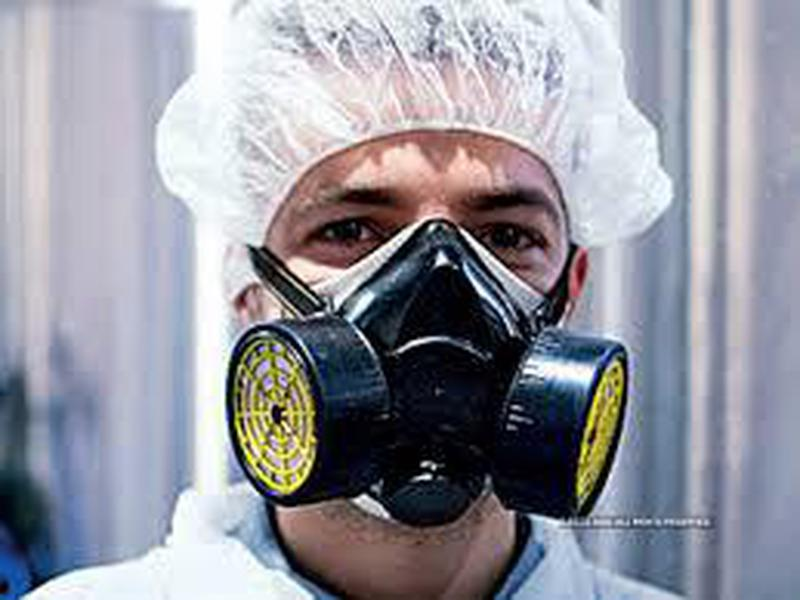with_mask: (221, 128, 629, 529)
